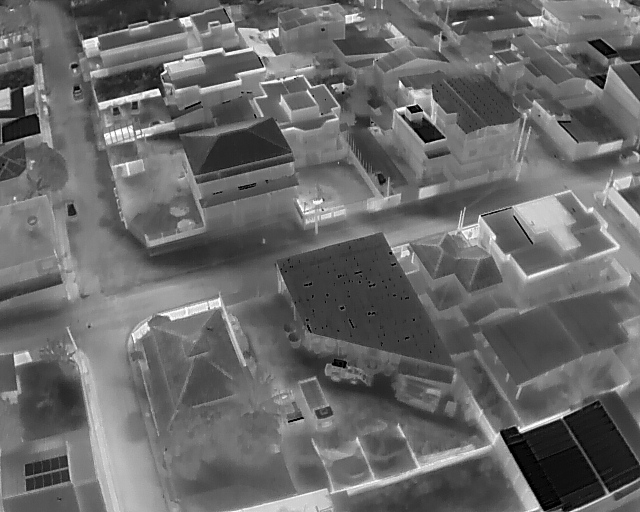car: (371, 167, 393, 194), (62, 196, 80, 226), (432, 28, 452, 52), (72, 78, 85, 107), (127, 96, 145, 116), (617, 150, 640, 165), (107, 102, 124, 122), (67, 60, 81, 80)
truck: (303, 370, 333, 431), (336, 343, 364, 401), (277, 383, 301, 432)
